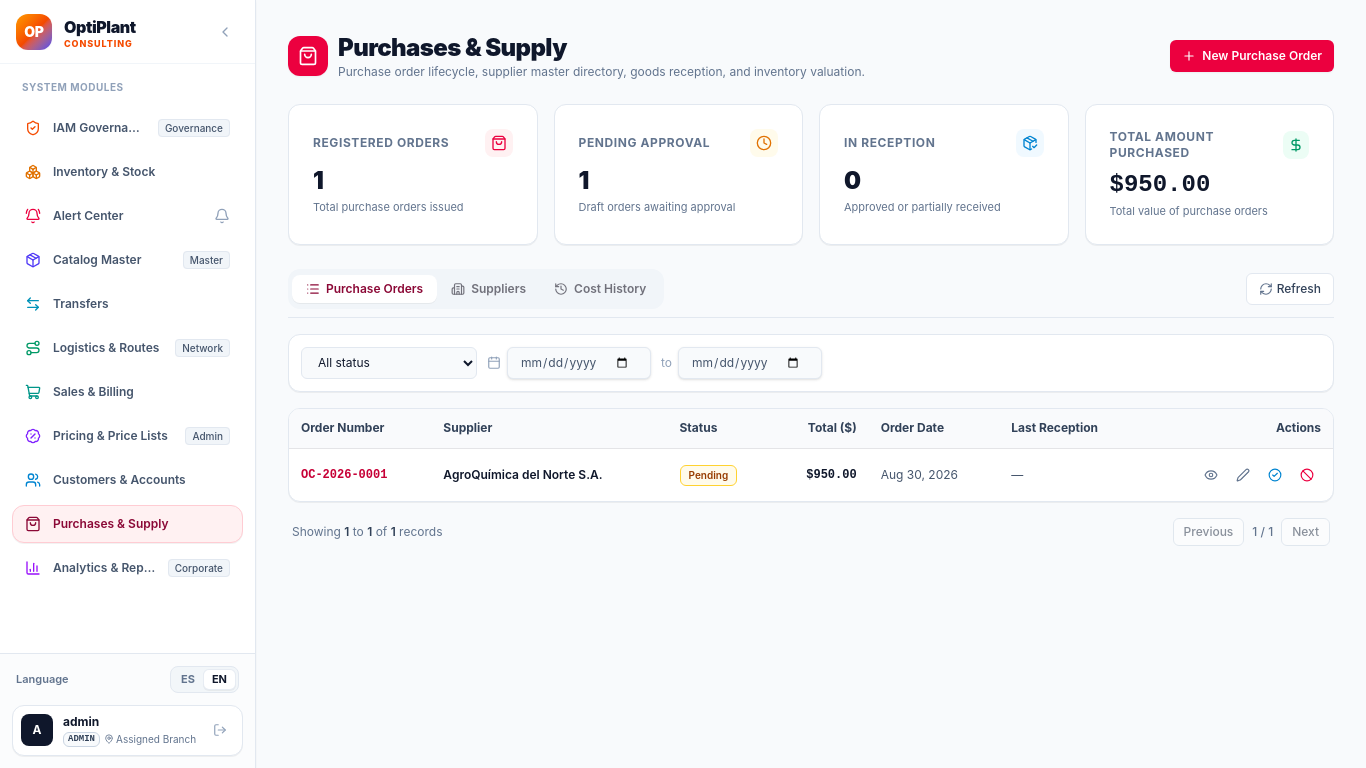
Test: PurchasesDashboard Component Tests › switches to suppliers tab and displays supplier directory
Click the tab "Suppliers".
click(489, 288)  # box [437, 274, 540, 302]
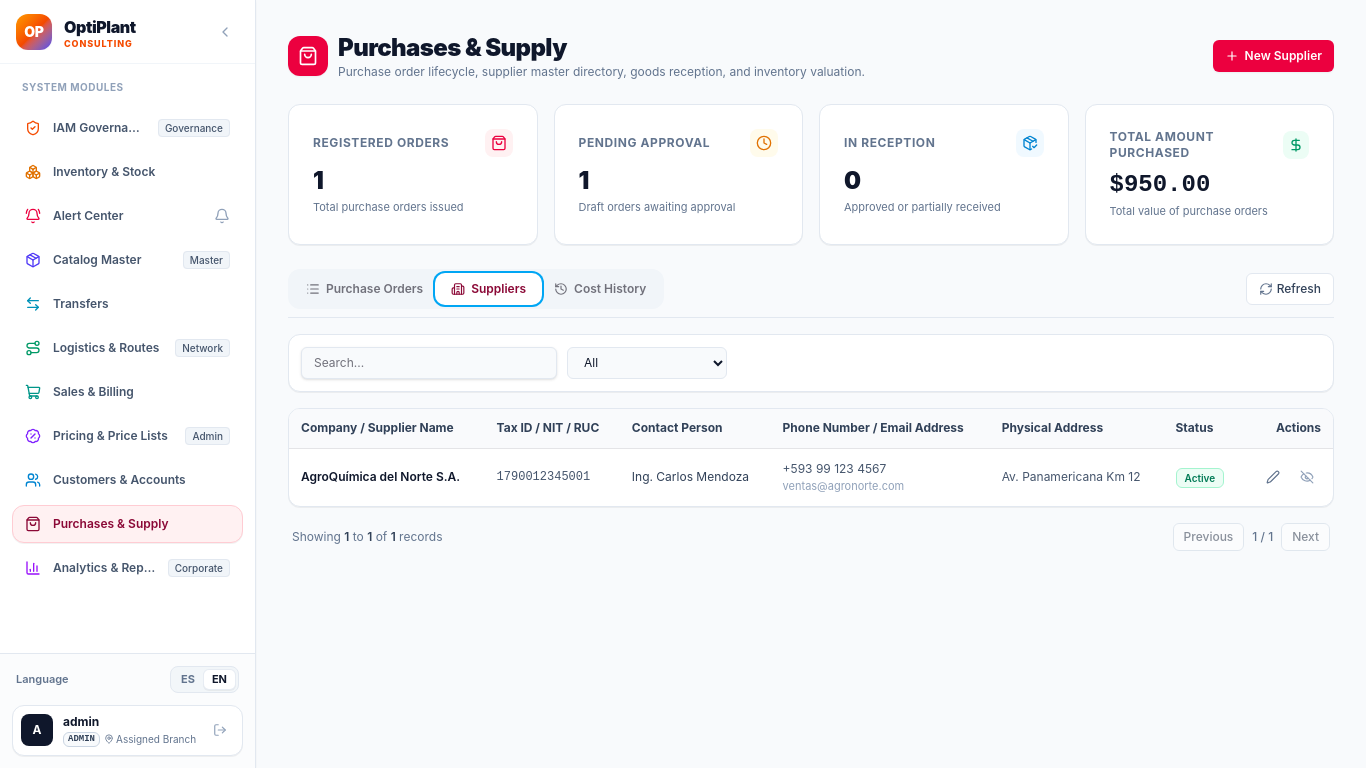
Result: the text "1790012345001" is shown at [485, 448, 620, 506]
Result: the text "Ing. Carlos Mendoza" is shown at [620, 448, 771, 506]
